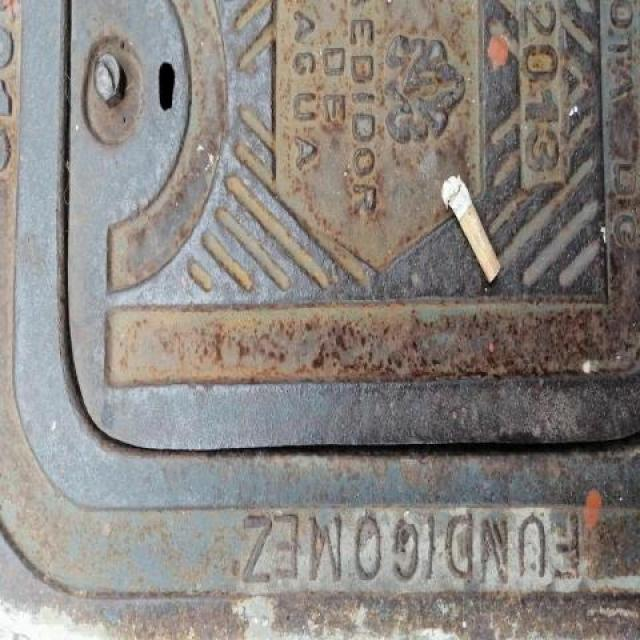non-organic waste: (434, 169, 502, 288)
